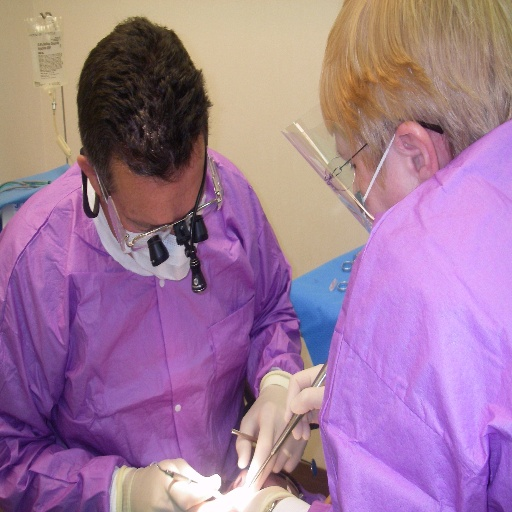hand: (232, 371, 321, 485), (120, 456, 220, 511), (282, 361, 326, 442)
